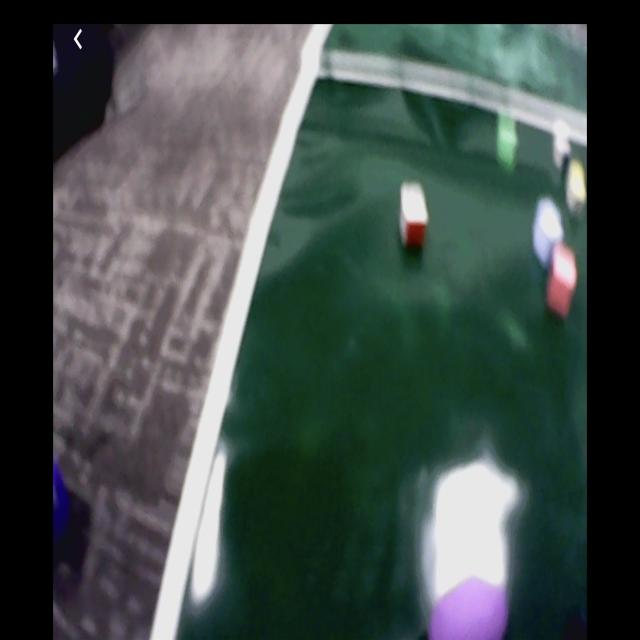ball: (430, 575, 508, 640), (53, 458, 67, 548)
